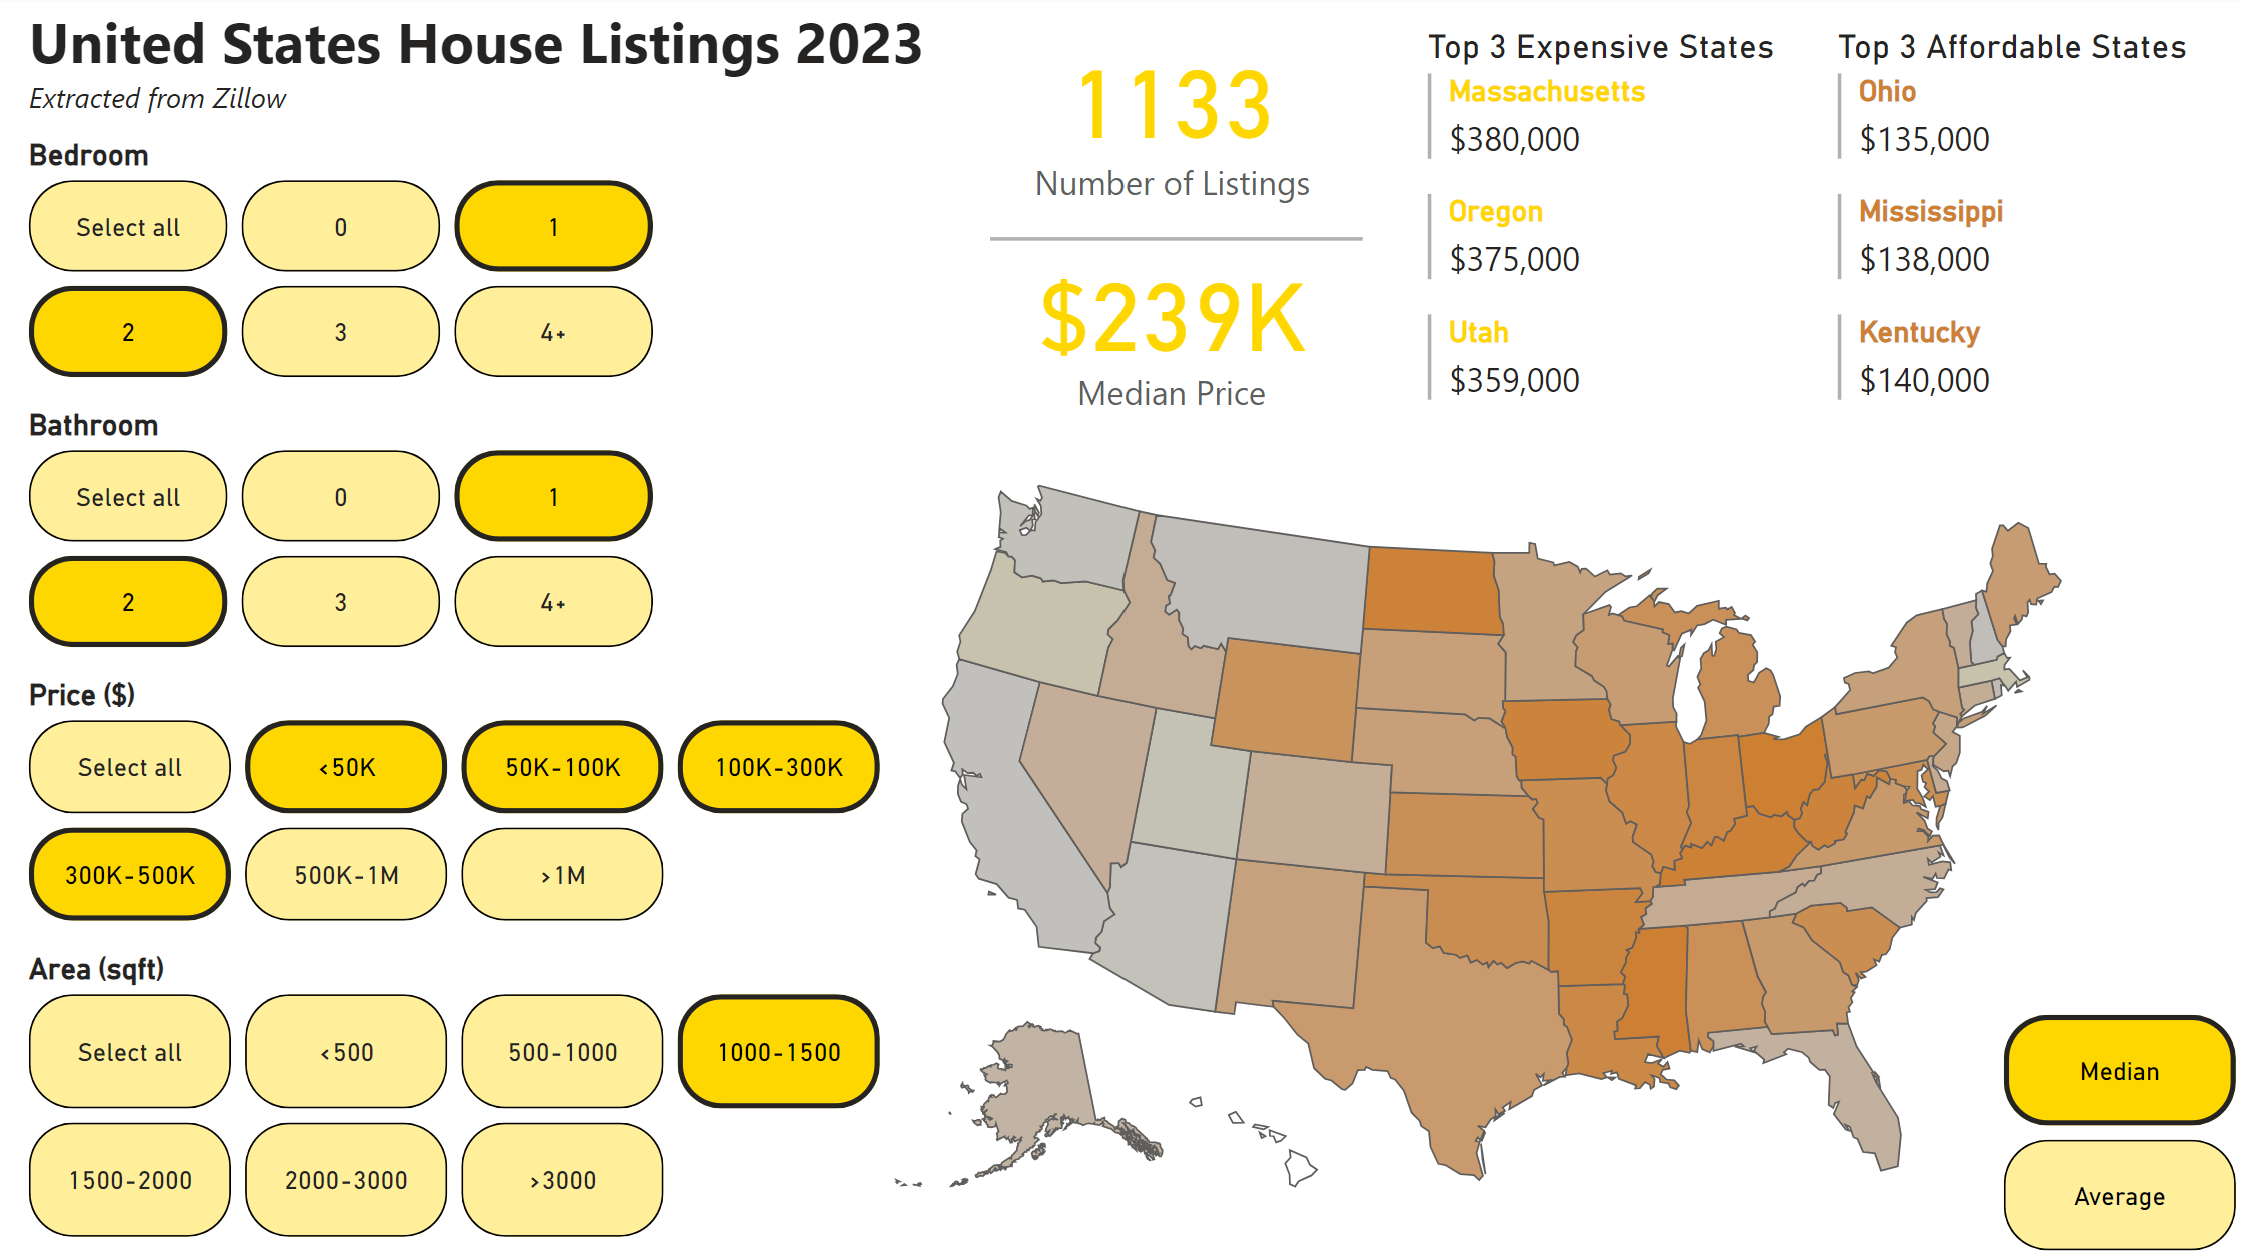

The page's visual inventory and layout, read from the dashboard file:
{"tool":"powerbi","page":{"name":"Main","canvas":[1280,720],"ordinal":0},"visuals":[{"type":"multiRowCard","title":"Top 3 Expensive States","fields":{"Values":["cleaned_df.State Name","cleaned_df.Avg/Med Price"]},"box":[810,18.6,214.3,240],"z":0},{"type":"card","fields":{"Values":["cleaned_df.Avg/Med Price"]},"box":[562.4,123.8,215.7,127.5],"z":0,"group":"g3"},{"type":"multiRowCard","title":"Top 3 Affordable States","fields":{"Values":["cleaned_df.State Name","cleaned_df.Avg/Med Price"]},"box":[1042.9,18.6,214.3,240],"z":1000},{"type":"card","fields":{"Values":["cleaned_df.Avg/Med Title"]},"box":[562.4,212.7,214.8,31.7],"z":1000,"group":"g1"},{"type":"advancedSlicerVisual","title":"Price ($)","fields":{"Values":["cleaned_df.Price Class"]},"box":[14.8,389,494.8,143.3],"z":2000},{"type":"advancedSlicerVisual","fields":{"Values":["cleaned_df.Bedroom Class"]},"box":[14.3,81.4,365.7,142.9],"z":3000},{"type":"advancedSlicerVisual","fields":{"Values":["cleaned_df.Bathroom Class"]},"box":[14.3,235.7,365.7,142.9],"z":4000},{"type":"advancedSlicerVisual","fields":{"Values":["cleaned_df.Area Class"]},"box":[14.8,544.8,494.8,168.3],"z":5000},{"type":"card","fields":{"Values":["CountNonNull(cleaned_df.Price)"]},"box":[562.4,4.3,215.7,127.1],"z":6000,"group":"g2"},{"type":"shapeMap","fields":{"Value":["cleaned_df.Avg/Med Price"],"Category":["cleaned_df.State Name"]},"box":[470,252.9,748.6,452.9],"z":6000},{"type":"textbox","box":[14.3,0,532.9,85.7],"z":7000},{"type":"group","id":"g1","title":"Group 1","box":[562.4,61.1,215.7,190.2],"z":8000,"group":"g2"},{"type":"advancedSlicerVisual","fields":{"Values":["Calculation Methods.Cal Method"]},"box":[1137.1,575.7,142.9,144.3],"z":8000},{"type":"group","id":"g2","title":"Group 3","box":[562.4,4.3,215.7,246.9],"z":9000},{"type":"group","id":"g3","title":"Group 2","box":[562.4,61.1,215.7,190.2],"z":11001,"group":"g1"},{"type":"shape","box":[566.7,61.1,211.4,155.7],"z":11001,"group":"g3"}]}

Visuals, with their boxes in screenshot pixels (x1, y1, x2, y2), scaled from the page's 1280x720 canvas onto the 2242x1256 screenshot:
"Top 3 Expensive States" multiRowCard: <box>1419,32,1794,451</box>
card - cleaned_df.Avg/Med Price: <box>985,216,1363,438</box>
"Top 3 Affordable States" multiRowCard: <box>1827,32,2202,451</box>
card - cleaned_df.Avg/Med Title: <box>985,371,1361,426</box>
"Price ($)" advancedSlicerVisual: <box>26,679,893,929</box>
advancedSlicerVisual - cleaned_df.Bedroom Class: <box>25,142,666,391</box>
advancedSlicerVisual - cleaned_df.Bathroom Class: <box>25,411,666,660</box>
advancedSlicerVisual - cleaned_df.Area Class: <box>26,950,893,1244</box>
card - CountNonNull(cleaned_df.Price): <box>985,8,1363,229</box>
shapeMap - cleaned_df.Avg/Med Price x cleaned_df.State Name: <box>823,441,2134,1231</box>
textbox: <box>25,0,958,149</box>
"Group 1" group: <box>985,107,1363,438</box>
advancedSlicerVisual - Calculation Methods.Cal Method: <box>1992,1004,2241,1255</box>
"Group 3" group: <box>985,8,1363,438</box>
"Group 2" group: <box>985,107,1363,438</box>
shape: <box>993,107,1363,378</box>
